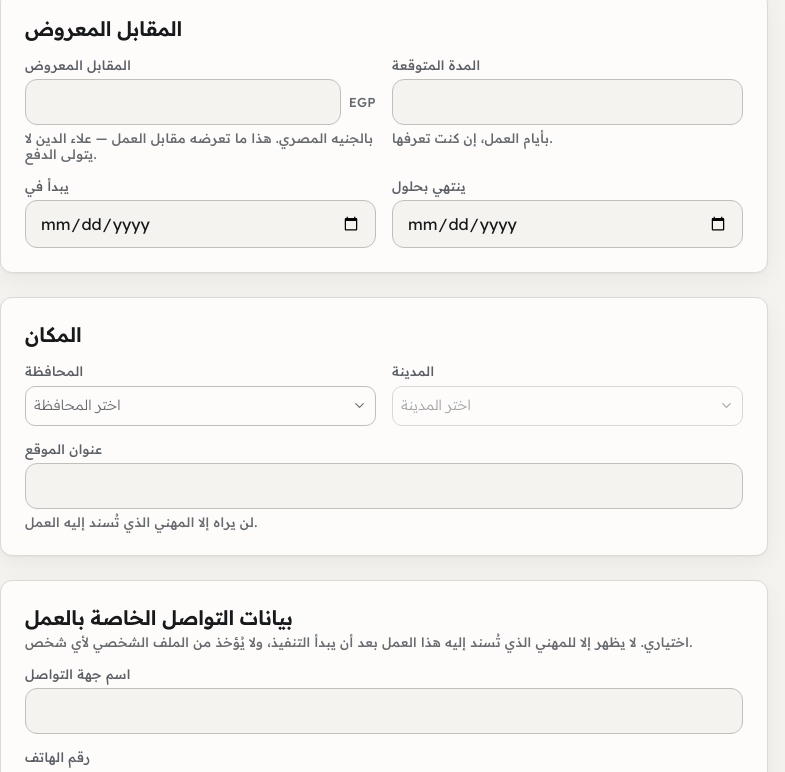
Test case: JobForm — the place is chosen from the catalogue › reads in Arabic from the same catalogue
The width and height of the screenshot is (785, 772).
(page scrolled)
Click the button with id "governorateKey" at (77, 405), box 25,386 -> 376,426
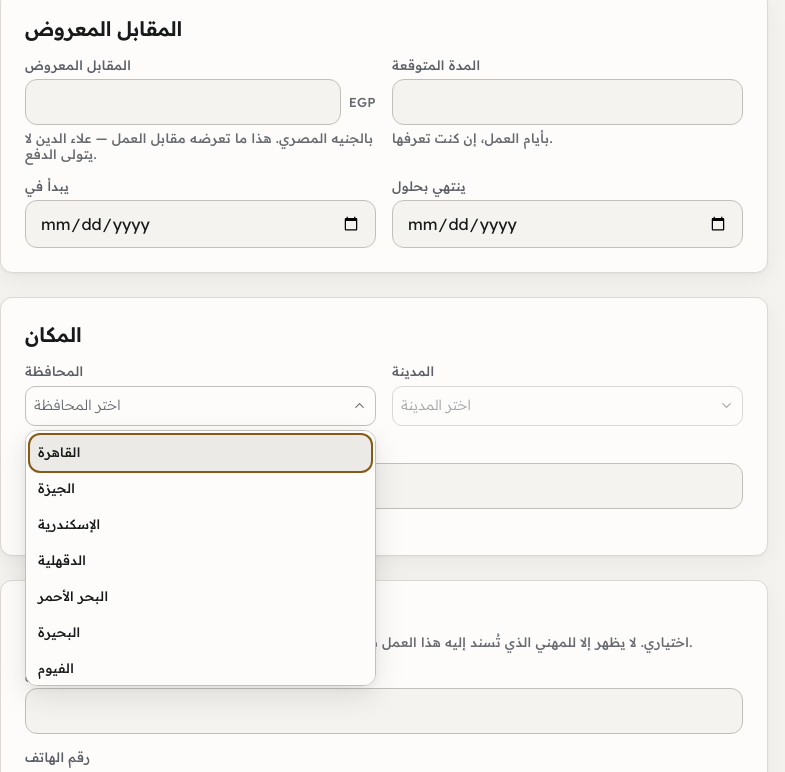
Expected: the option "القاهرة" is shown, 30,435 -> 371,471
Expected: the option "الجيزة" is shown, 30,471 -> 371,507
